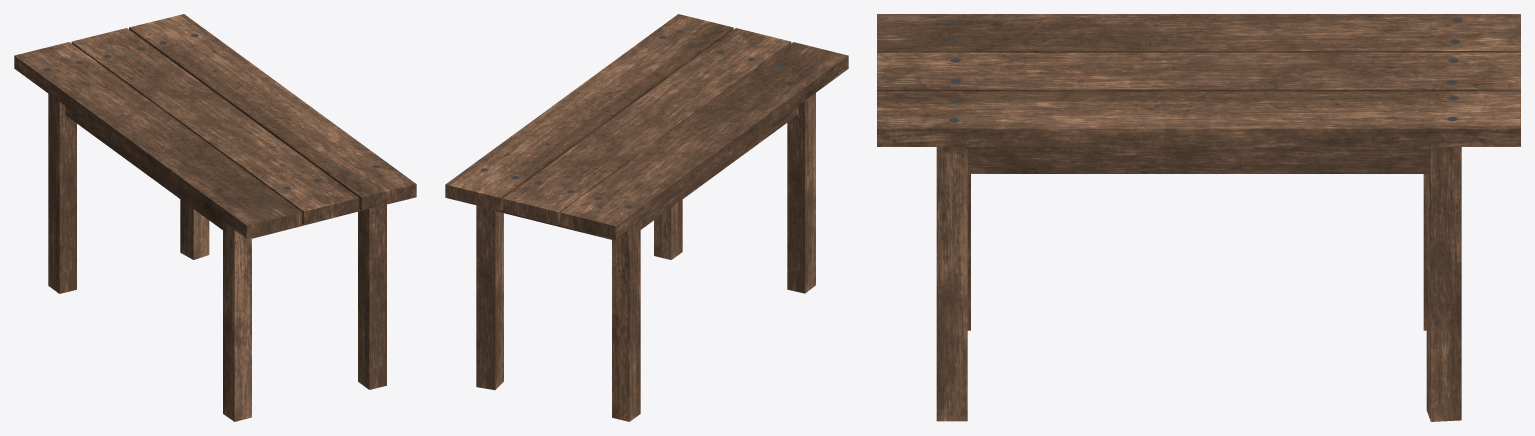
The model's file is wood_table.glb.
3 views of the same model, side by side, from view 1: azimuth 30°, elevation 25°; view 2: azimuth 150°, elevation 25°; view 3: azimuth 270°, elevation 25° (orthographic). The views are drawn at different scales.
Visible parts, largest first — view 1: Object_3; view 2: Object_3; view 3: Object_3.
Part boxes in pixels (bbox=[...]): Object_3: bbox=[14, 14, 416, 421]; Object_3: bbox=[445, 14, 848, 421]; Object_3: bbox=[877, 14, 1520, 421].
Size of the model in its own units: 0.5708 by 0.6914 by 1.35.
1 material, 1 textured.
